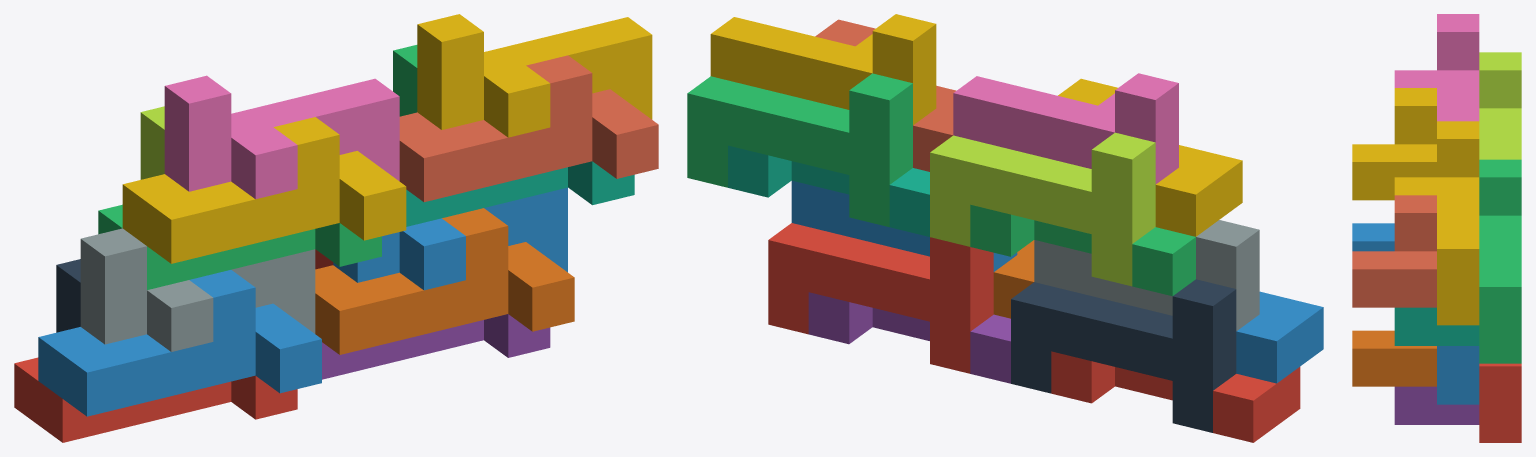
The model's file is tiling.obj.
3 views of the same model, side by side, from view 1: azimuth 30°, elevation 25°; view 2: azimuth 150°, elevation 25°; view 3: azimuth 270°, elevation 25° (orthographic). The views are drawn at different scales.
Parts seen in each view (by area): view 1: copy_1_domain_4, copy_1_domain_2, copy_1_domain_8, copy_1_domain_6, copy_2_domain_4, copy_2_domain_8, copy_2_domain_2, copy_2_domain_6, copy_1_domain_1, copy_1_domain_3, copy_1_domain_7, copy_1_domain_5 (+3 smaller); view 2: copy_2_domain_3, copy_2_domain_1, copy_2_domain_7, copy_2_domain_5, copy_2_domain_8, copy_2_domain_4, copy_2_domain_2, copy_1_domain_1, copy_1_domain_3, copy_1_domain_4, copy_1_domain_5, copy_1_domain_7 (+4 smaller); view 3: copy_2_domain_8, copy_2_domain_7, copy_1_domain_8, copy_1_domain_4, copy_2_domain_4, copy_2_domain_3, copy_1_domain_6, copy_2_domain_5, copy_1_domain_7, copy_1_domain_5, copy_2_domain_6, copy_1_domain_2.
Part boxes in pixels (x1,y1,x2,y2): copy_1_domain_4: (122, 117, 406, 263); copy_1_domain_2: (38, 270, 321, 416); copy_1_domain_8: (399, 55, 658, 202); copy_1_domain_6: (315, 208, 574, 354); copy_2_domain_4: (164, 75, 399, 199); copy_2_domain_8: (417, 14, 652, 137); copy_2_domain_2: (80, 228, 315, 351); copy_2_domain_6: (333, 187, 567, 290); copy_1_domain_1: (14, 357, 297, 442); copy_1_domain_3: (98, 204, 381, 289); copy_1_domain_7: (406, 161, 634, 226); copy_1_domain_5: (322, 314, 550, 379); copy_2_domain_3: (930, 132, 1155, 286); copy_2_domain_1: (1011, 279, 1236, 432); copy_2_domain_7: (687, 73, 912, 227); copy_2_domain_5: (768, 223, 993, 373); copy_2_domain_8: (710, 14, 936, 125); copy_2_domain_4: (953, 73, 1178, 184); copy_2_domain_2: (1034, 220, 1259, 330); copy_1_domain_1: (1051, 351, 1300, 442); copy_1_domain_3: (970, 204, 1195, 296); copy_1_domain_4: (1058, 78, 1242, 236); copy_1_domain_5: (808, 292, 1010, 383); copy_1_domain_7: (728, 145, 929, 236); copy_2_domain_8: (1394, 121, 1479, 325); copy_2_domain_7: (1479, 159, 1521, 363); copy_1_domain_8: (1352, 195, 1436, 307); copy_1_domain_4: (1352, 88, 1436, 200); copy_2_domain_4: (1394, 14, 1479, 121); copy_2_domain_3: (1479, 52, 1521, 159); copy_1_domain_6: (1352, 330, 1436, 386); copy_2_domain_5: (1479, 363, 1521, 442); copy_1_domain_7: (1394, 307, 1479, 345); copy_1_domain_5: (1394, 386, 1479, 424); copy_2_domain_6: (1437, 346, 1479, 404); copy_1_domain_2: (1352, 223, 1394, 251).
Bounding box in the file's own units: 14 × 7 × 4.
